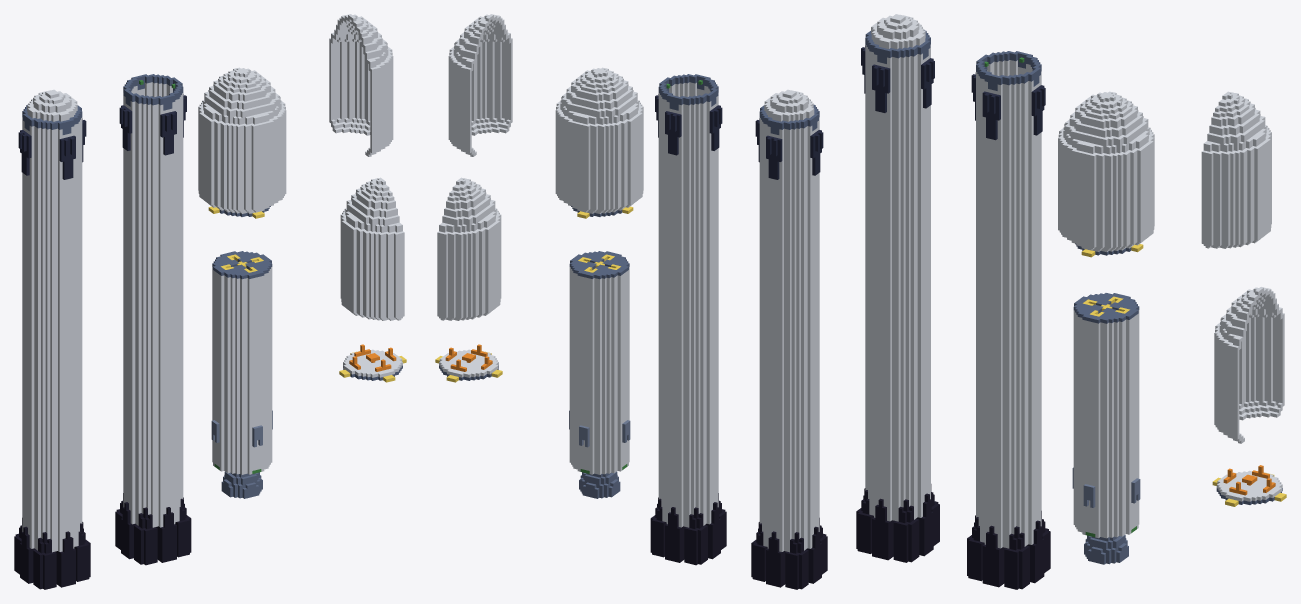
File: pelicano_ix_all_parts.glb
3 views of the same model, side by side, from view 1: azimuth 30°, elevation 25°; view 2: azimuth 150°, elevation 25°; view 3: azimuth 330°, elevation 25° (orthographic). The views are drawn at different scales.
Parts seen in each view (by area): view 1: ObjObject.020; view 2: ObjObject.020; view 3: ObjObject.020.
Boxes of the visible parts, x1=… form: ObjObject.020: x1=14, y1=14, x2=406, y2=589; ObjObject.020: x1=435, y1=14, x2=827, y2=589; ObjObject.020: x1=856, y1=14, x2=1286, y2=589.
Bounding box in the file's own units: 12.9 × 15.6 × 2.5.
Materials: 1 (1 with a texture image).
